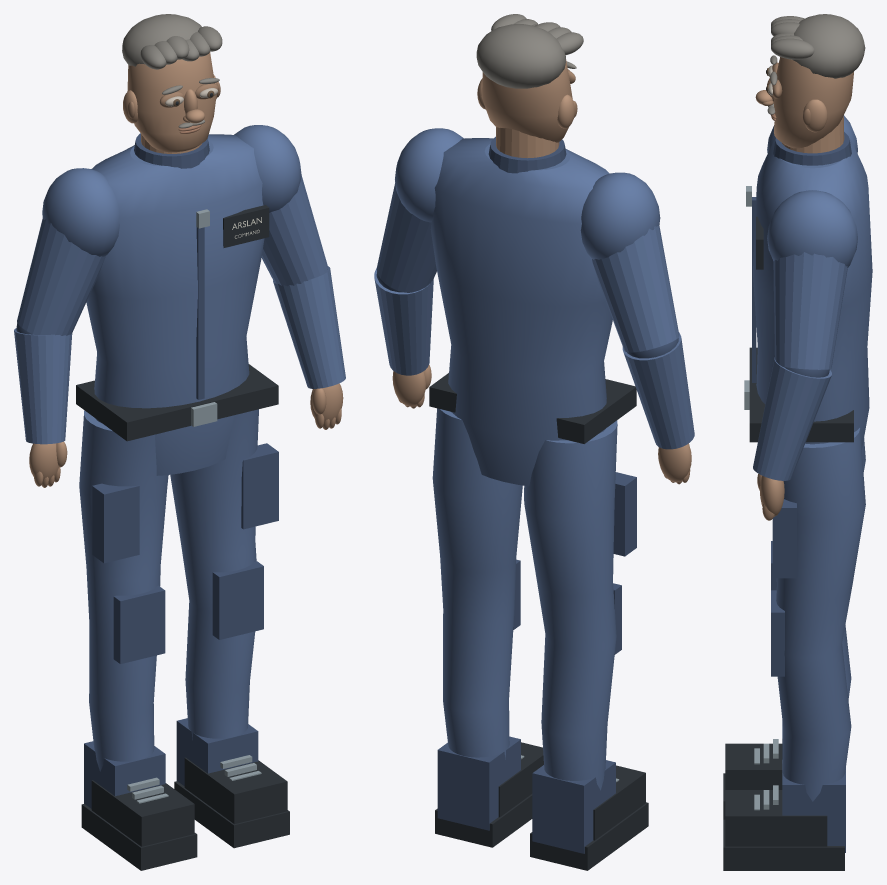
Rendered from Arslan.glb.
3 renders of one model, left to right at view 1: azimuth 30°, elevation 25°; view 2: azimuth 150°, elevation 25°; view 3: azimuth 270°, elevation 25°, orthographic. The views are drawn at different scales.
Visible parts, largest first — view 1: Tailored torso.003, Trouser leg.006, Trouser leg.007, Upper sleeve.006, Head.003, Forearm sleeve.006, Forearm sleeve.007, Utility belt.003, Shoulder seam.006, Upper sleeve.007, Boot toe.007, Boot toe.006 (+15 smaller); view 2: Tailored torso.003, Trouser leg.006, Trouser leg.007, Upper sleeve.006, Boot ankle.007, Shoulder seam.006, Boot ankle.006, Forearm sleeve.006, Scalp hair.002, Forearm sleeve.007, Upper sleeve.007, Head.003 (+11 smaller); view 3: Trouser leg.007, Tailored torso.003, Upper sleeve.007, Forearm sleeve.007, Shoulder seam.007, Boot toe.007, Head.003, Scalp hair.002, Boot sole.007, Boot ankle.007, Boot toe.006, Utility belt.003 (+11 smaller).
Boxes of the visible parts, box(x1,y1,x2,y2) form: Tailored torso.003: box(86, 134, 264, 475); Trouser leg.006: box(79, 410, 168, 771); Trouser leg.007: box(170, 409, 258, 740); Upper sleeve.006: box(17, 218, 105, 335); Head.003: box(127, 52, 216, 152); Forearm sleeve.006: box(14, 328, 72, 444); Forearm sleeve.007: box(273, 266, 345, 388); Utility belt.003: box(76, 364, 278, 441); Shoulder seam.006: box(42, 168, 119, 256); Upper sleeve.007: box(261, 176, 327, 286); Boot toe.007: box(184, 757, 287, 824); Boot toe.006: box(91, 780, 194, 846); Tailored torso.003: box(430, 138, 612, 486); Trouser leg.006: box(524, 420, 617, 790); Trouser leg.007: box(432, 408, 522, 759); Upper sleeve.006: box(592, 225, 679, 352); Boot ankle.007: box(437, 736, 520, 830); Shoulder seam.006: box(580, 172, 660, 259); Boot ankle.006: box(532, 760, 615, 853); Forearm sleeve.006: box(622, 332, 694, 449); Scalp hair.002: box(476, 24, 565, 88); Forearm sleeve.007: box(374, 267, 433, 375); Upper sleeve.007: box(376, 183, 436, 292); Head.003: box(481, 59, 572, 142); Trouser leg.007: box(776, 428, 865, 801); Tailored torso.003: box(753, 138, 872, 449); Upper sleeve.007: box(773, 252, 847, 369); Forearm sleeve.007: box(753, 357, 831, 480); Shoulder seam.007: box(767, 190, 857, 267); Boot toe.007: box(725, 790, 827, 846); Head.003: box(774, 57, 853, 148); Scalp hair.002: box(792, 14, 865, 78); Boot sole.007: box(723, 819, 844, 870); Boot ankle.007: box(782, 759, 845, 852); Boot toe.006: box(725, 743, 782, 789); Utility belt.003: box(749, 347, 853, 442).
Size of the model in its own units: 0.4893 by 1.23 by 0.2037.
